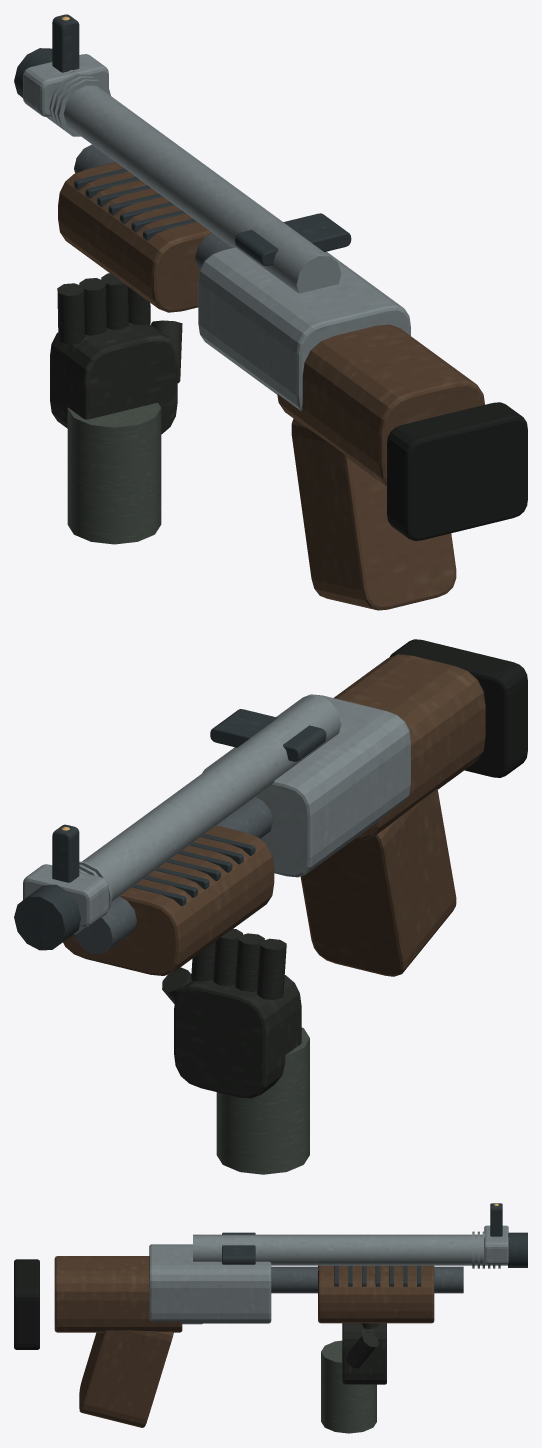
The model's file is shotgun.glb.
3 renders of one model, top to bottom at view 1: azimuth 30°, elevation 25°; view 2: azimuth 150°, elevation 25°; view 3: azimuth 270°, elevation 25°, orthographic. The views are drawn at different scales.
Parts seen in each view (by area): view 1: first-person-shotgun; view 2: first-person-shotgun; view 3: first-person-shotgun.
Boxes of the visible parts, x1=… form: first-person-shotgun: x1=14, y1=14, x2=527, y2=610; first-person-shotgun: x1=14, y1=639, x2=527, y2=1174; first-person-shotgun: x1=14, y1=1203, x2=527, y2=1433.
Bounding box in the file's own units: 0.426 × 0.923 × 1.8.
8 materials, 6 textured.
